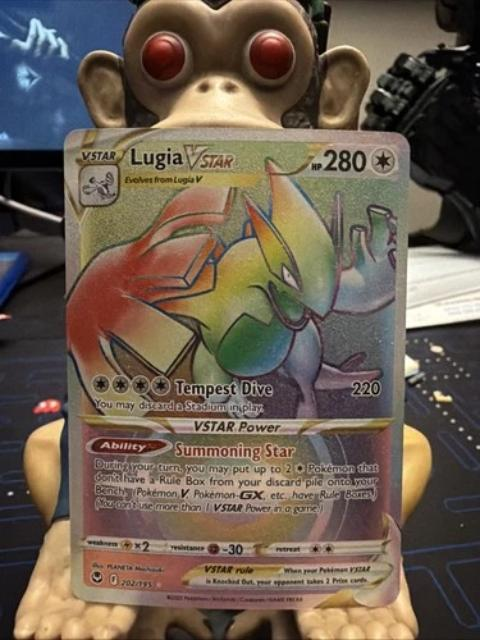Card: (57, 122, 414, 615)
Name: (124, 144, 241, 173)
